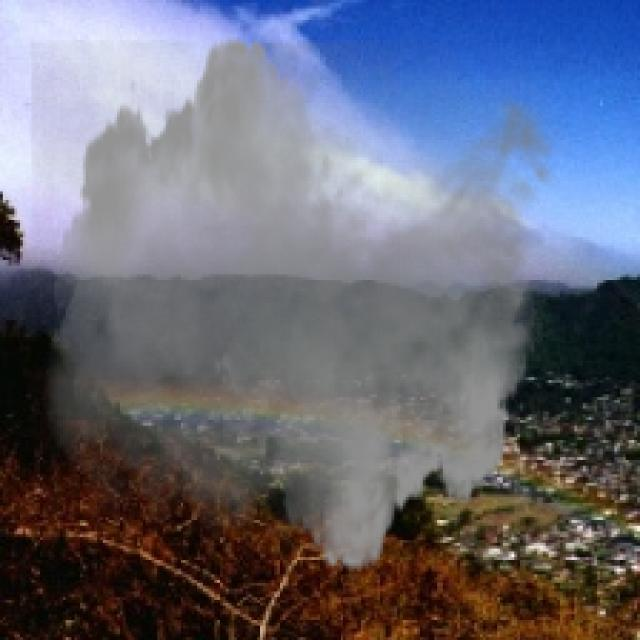Smoke: (31, 20, 572, 589)
